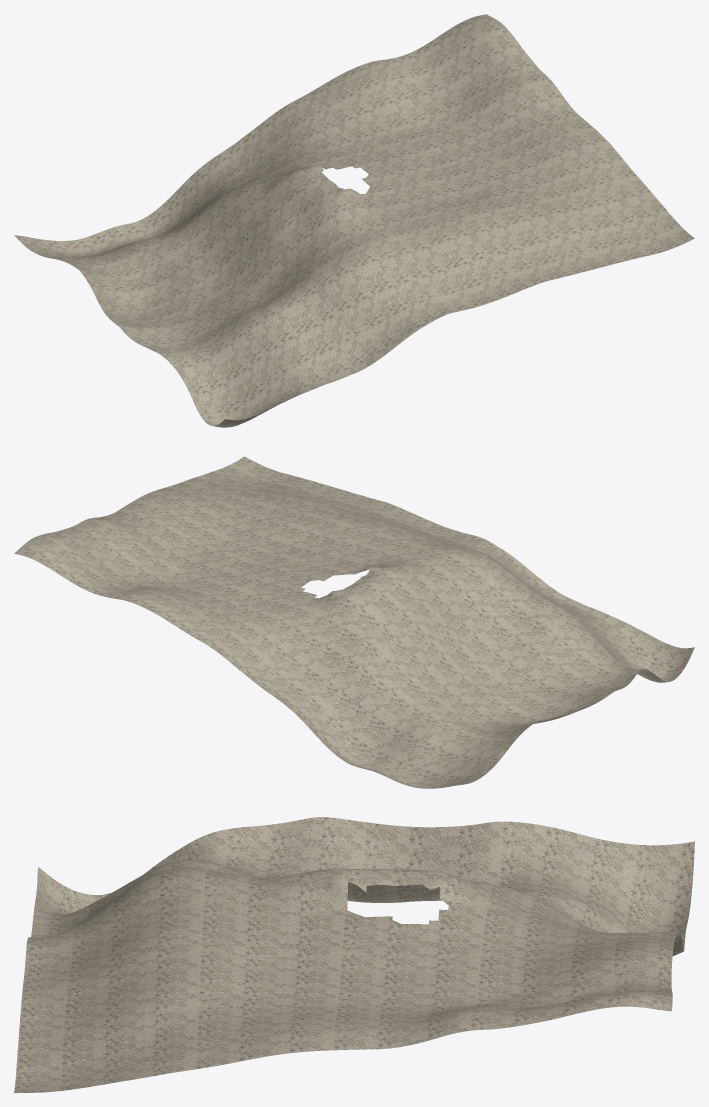
Rendered from BGround.gltf.
3 views of the same model, one above another, from view 1: azimuth 30°, elevation 25°; view 2: azimuth 150°, elevation 25°; view 3: azimuth 270°, elevation 25° (orthographic). The views are drawn at different scales.
Parts seen in each view (by area): view 1: Field.001; view 2: Field.001; view 3: Field.001.
Boxes of the visible parts, x1,y1,x2,y2 form: Field.001: (14,14,694,427); Field.001: (14,456,694,788); Field.001: (14,817,694,1092).
Bounding box in the file's own units: 479 × 151 × 389.
Materials: 1 (1 with a texture image).
